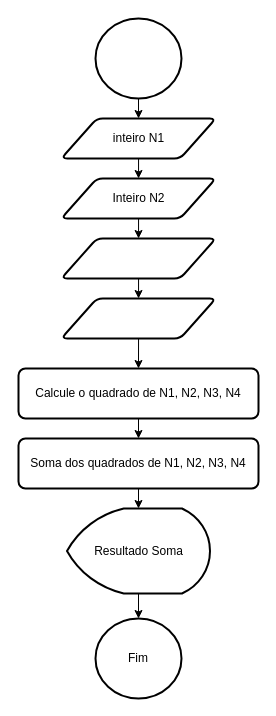
Some shapes in this 276 by 716 pixel diagram are drawn without their labels. The shapes that lost their labels are listed below. From the top down, each one's centre as x and y in pixels, then its label:
At point 138,58: "Inicio".
At point 138,258: "Inteiro N3".
At point 138,318: "inteiro N4".
